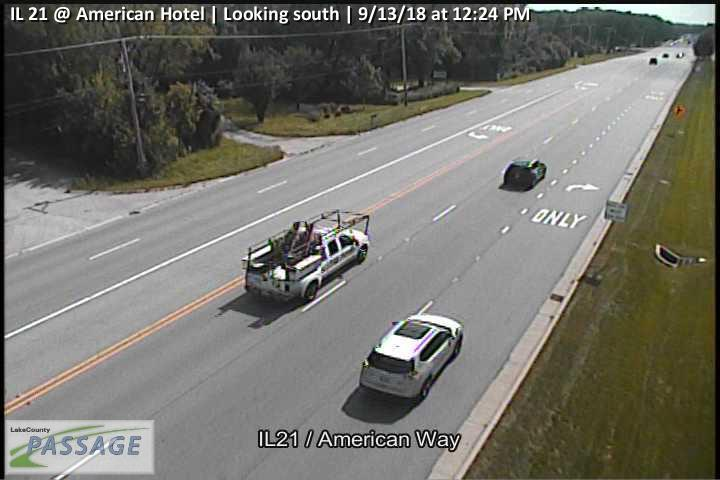SUV: (360, 313, 465, 404), (501, 158, 547, 190)
Truck: (240, 207, 371, 305)
